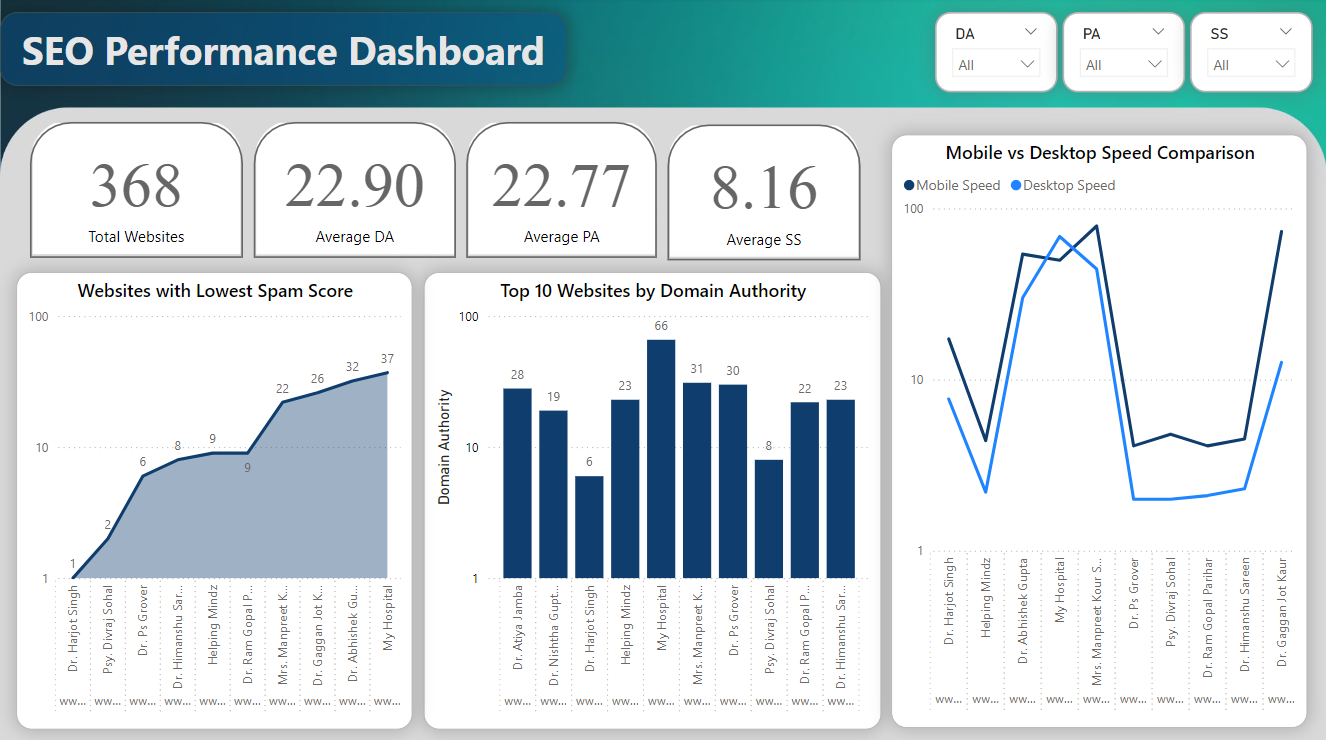

The page's visual inventory and layout, read from the dashboard file:
{"tool":"powerbi","page":{"name":"SEO","canvas":[1280,720],"ordinal":2},"visuals":[{"type":"cardVisual","fields":{"Data":["Avg(Final_Data.DA)"]},"box":[240.1,113.4,205.1,146],"z":0},{"type":"cardVisual","fields":{"Data":["Avg(Final_Data.PA)"]},"box":[445.2,113.4,194.2,146],"z":1000},{"type":"cardVisual","fields":{"Data":["Avg(Final_Data.SS)"]},"box":[639.4,115.8,196.6,146],"z":2000},{"type":"columnChart","title":"Top 10 Websites by Domain Authority","fields":{"Y":["Max(Final_Data.DA)"],"Category":["Final_Data.Website","Final_Data.Name"]},"box":[408.8,265,441.2,441.2],"z":3000},{"type":"areaChart","title":" Websites with Lowest Spam Score","fields":{"Category":["Final_Data.Website","Final_Data.Name"],"Y":["Sum(Final_Data.SS)"]},"box":[16.2,265,382.5,441.2],"z":4000},{"type":"lineChart","title":" Mobile vs Desktop Speed Comparison","fields":{"Category":["Final_Data.Website","Final_Data.Name"],"Y":["Max(Final_Data.Mobile Speed Index)","Max(Final_Data.Desktop Speed Index)"]},"box":[860.2,132.7,401.7,573.1],"z":5000},{"type":"cardVisual","fields":{"Data":["Count(Final_Data.Website)"]},"box":[24.1,113.4,216,146],"z":6000},{"type":"textbox","box":[0,15,547.5,71.2],"z":7000},{"type":"slicer","fields":{"Values":["Final_Data.DA"]},"box":[902.4,14.5,118.2,77.2],"z":8000},{"type":"slicer","fields":{"Values":["Final_Data.PA"]},"box":[1025.5,14.5,118.2,77.2],"z":9000},{"type":"slicer","fields":{"Values":["Final_Data.SS"]},"box":[1148.5,14.5,118.2,77.2],"z":10000}]}

Visuals, with their boxes in screenshot pixels (x1, y1, x2, y2), scaled from the page's 1280x720 canvas onto the 1326x740 screenshot:
cardVisual - Avg(Final_Data.DA): (left=249, top=117, right=461, bottom=267)
cardVisual - Avg(Final_Data.PA): (left=461, top=117, right=662, bottom=267)
cardVisual - Avg(Final_Data.SS): (left=662, top=119, right=866, bottom=269)
"Top 10 Websites by Domain Authority" columnChart: (left=423, top=272, right=881, bottom=726)
" Websites with Lowest Spam Score" areaChart: (left=17, top=272, right=413, bottom=726)
" Mobile vs Desktop Speed Comparison" lineChart: (left=891, top=136, right=1307, bottom=725)
cardVisual - Count(Final_Data.Website): (left=25, top=117, right=249, bottom=267)
textbox: (left=0, top=15, right=567, bottom=89)
slicer - Final_Data.DA: (left=935, top=15, right=1057, bottom=94)
slicer - Final_Data.PA: (left=1062, top=15, right=1185, bottom=94)
slicer - Final_Data.SS: (left=1190, top=15, right=1312, bottom=94)
